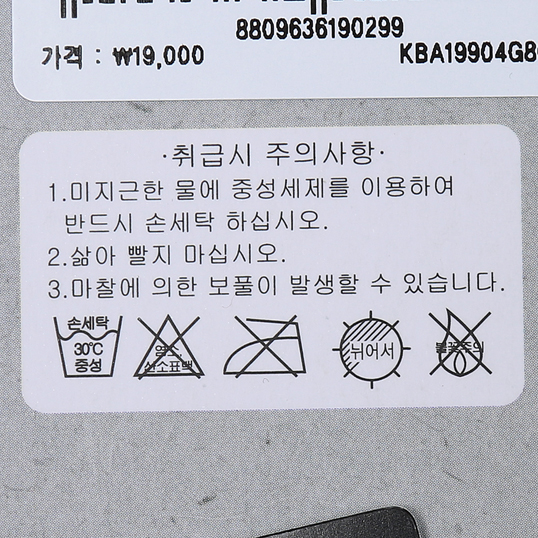KR_flat_dry_in_shade: (328, 308, 414, 390)
KR_hand_wash_30_neutral: (51, 308, 124, 384)
KR_no_bleach: (129, 310, 208, 385)
KR_no_iron: (221, 313, 315, 380)
